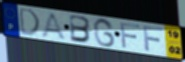A: (40, 12, 68, 41)
B: (69, 13, 93, 44)
D: (18, 6, 41, 37)
F: (142, 25, 165, 53), (119, 22, 142, 50)
G: (92, 18, 117, 49)
